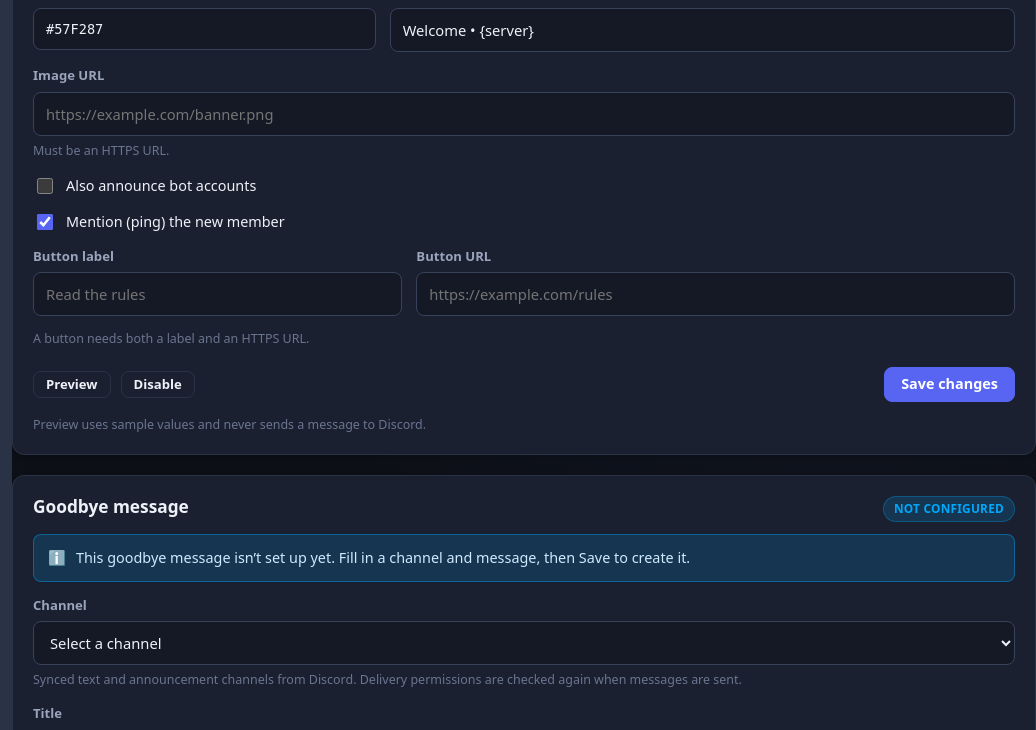
Test: AutomationTab › toggles an existing configuration via the toggle API
(page scrolled)
Click the button "Disable". click: (158, 384)
box: [121, 371, 195, 398]
(page scrolled)
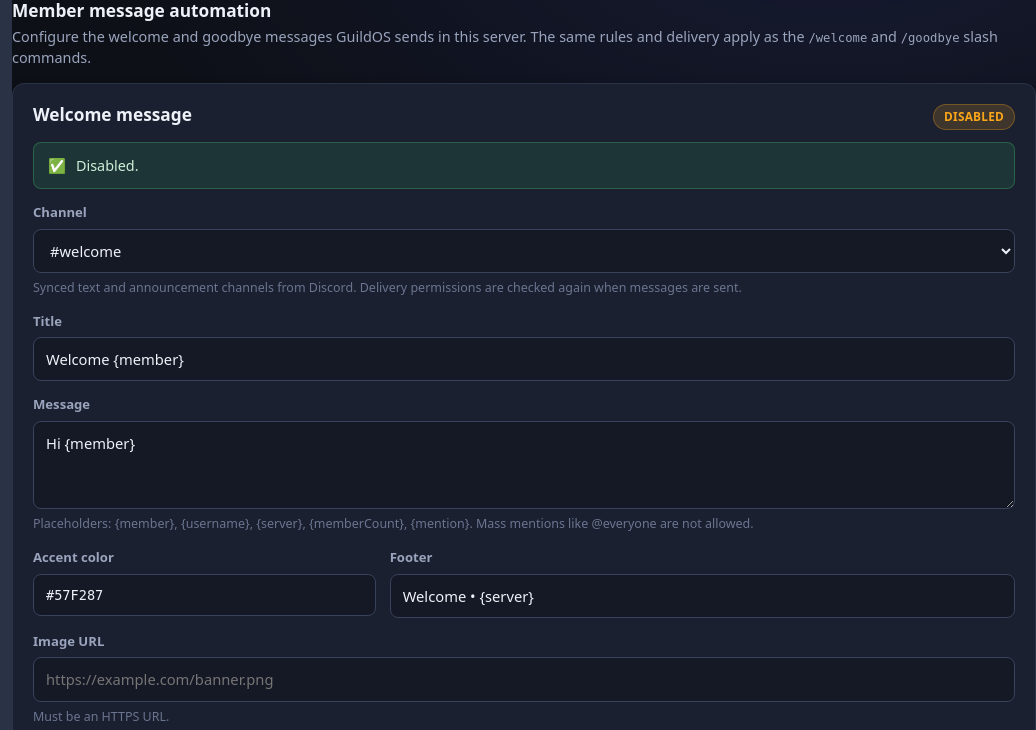
Expected: the text "Disabled." is shown, [76, 155, 139, 176]
